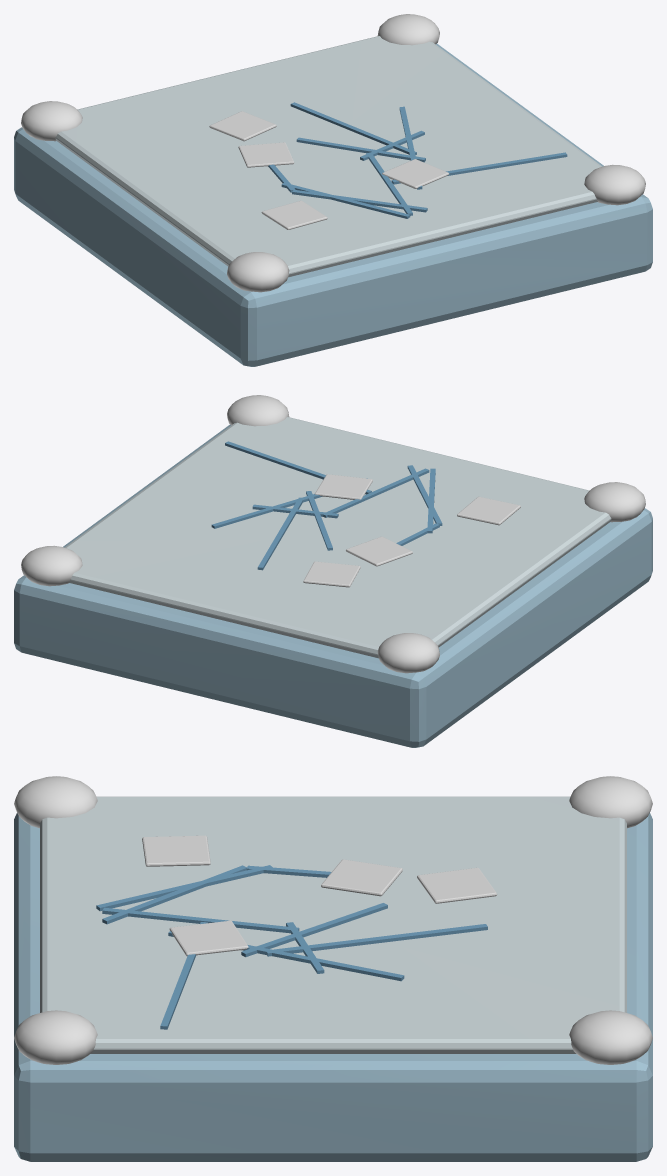
File: gym_ice_lite.glb
The picture shows the model from 3 angles, top to bottom: view 1: azimuth 30°, elevation 25°; view 2: azimuth 150°, elevation 25°; view 3: azimuth 270°, elevation 25°; orthographic projection. The views are drawn at different scales.
Parts seen in each view (by area): view 1: Cube; view 2: Cube; view 3: Cube.
Part boxes in pixels (<box>): Cube: <box>14,14,652,366</box>; Cube: <box>14,395,652,747</box>; Cube: <box>14,776,652,1161</box>.
Size of the model in its own units: 1.96 by 0.4515 by 1.96.
